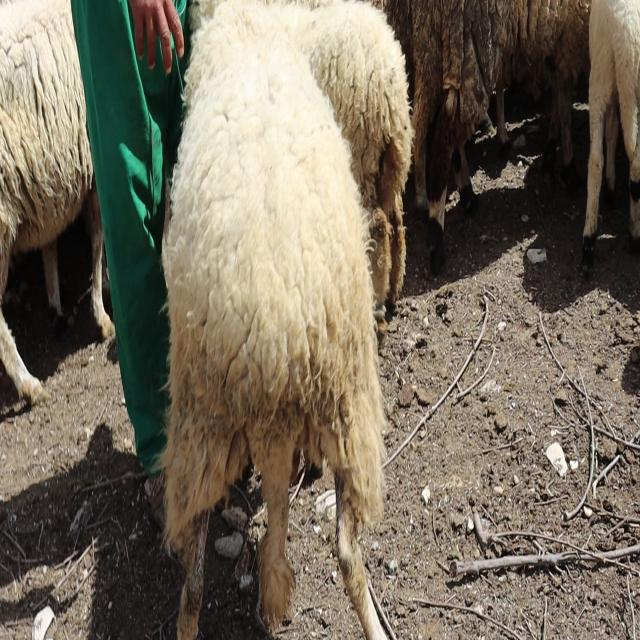Score_5: (162, 2, 386, 639)
